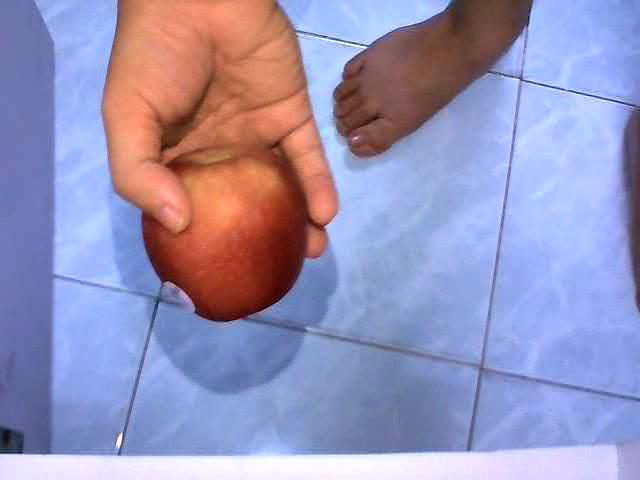apple: (141, 143, 305, 323)
